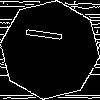I: (25, 25, 72, 45)
